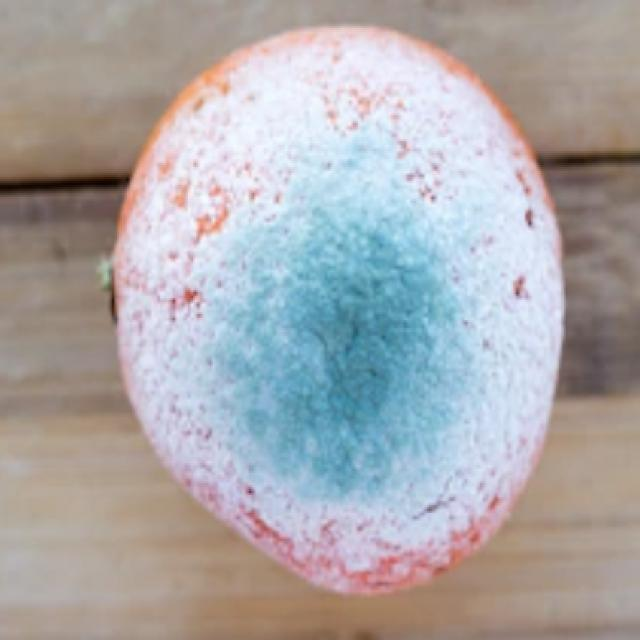sangat-busuk: (111, 27, 562, 591)
